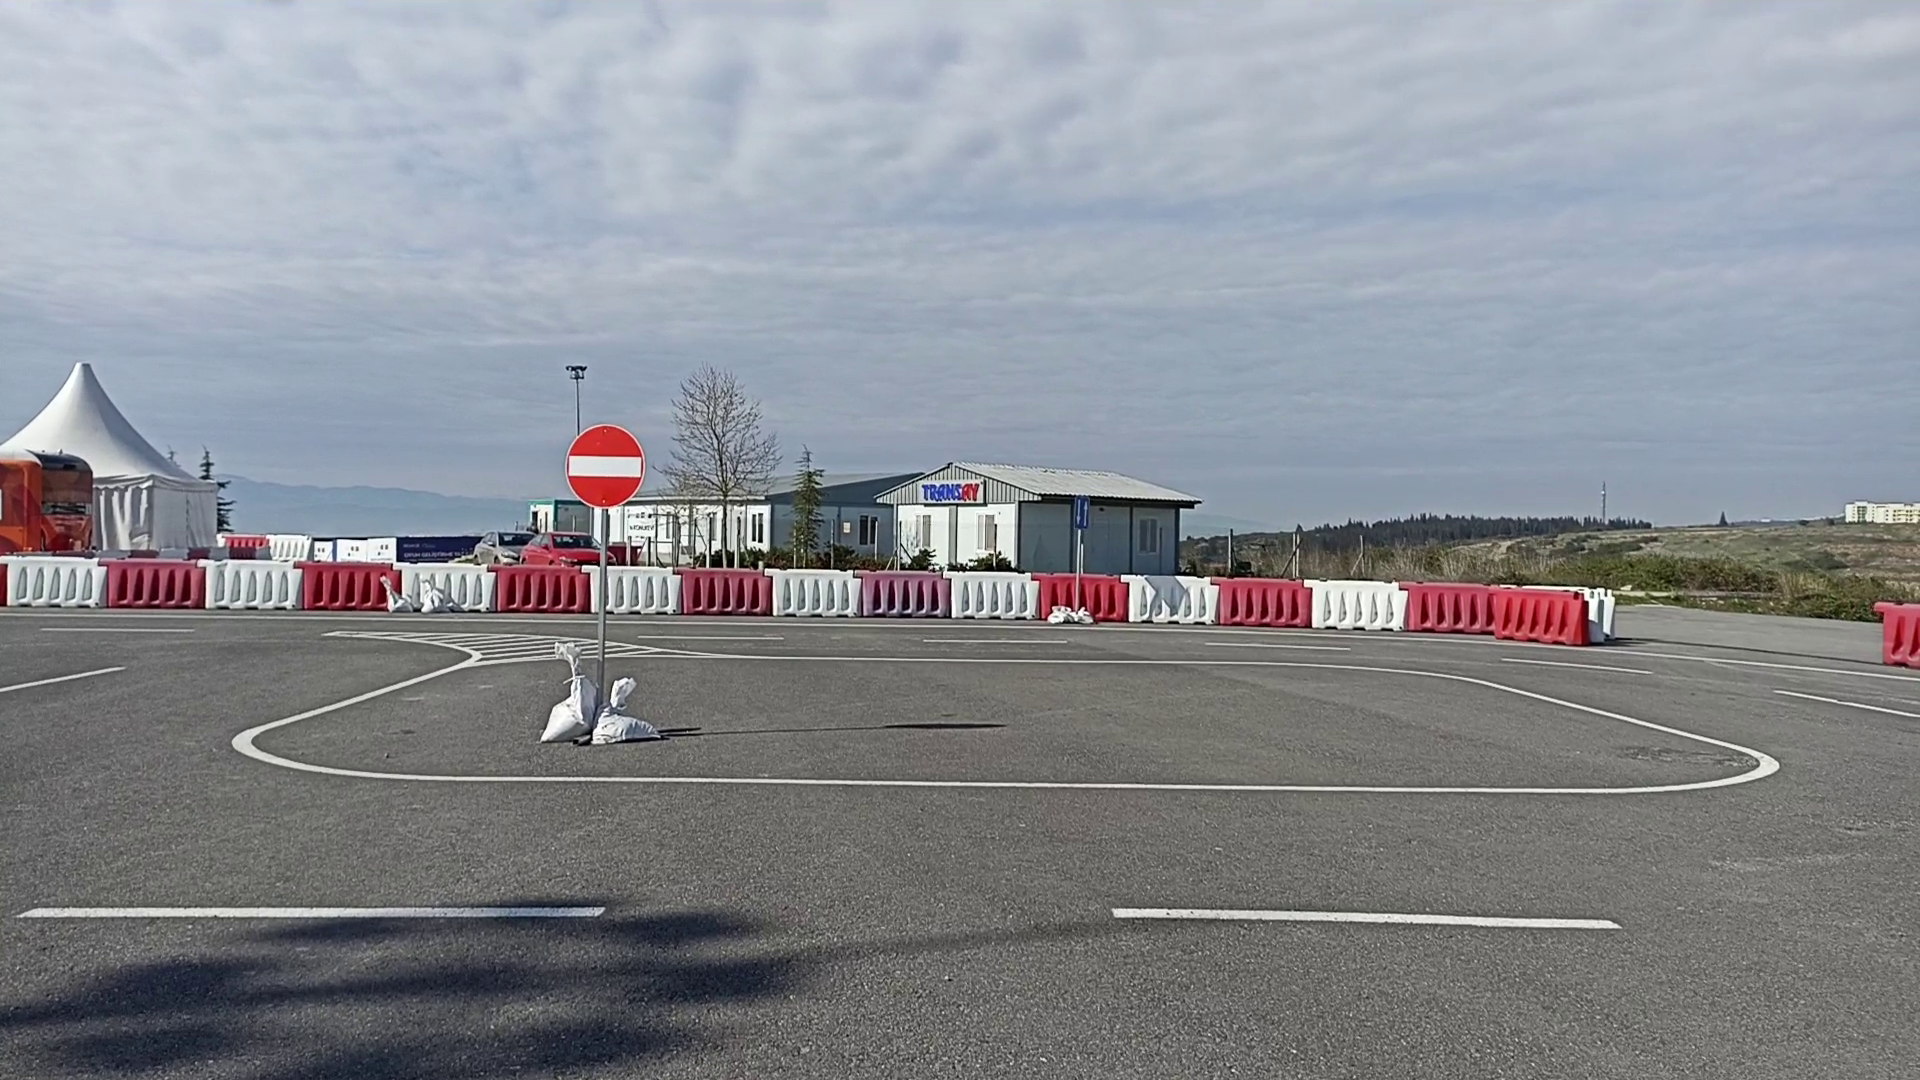noentryway: (562, 421, 646, 510)
